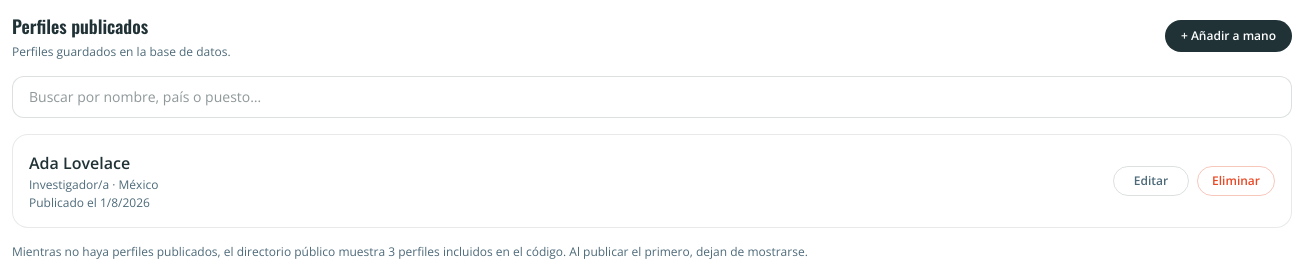
MembersEditor › says so when a search matches nothing
The image size is (1304, 276).
Type "zzzz" into the search field named "Buscar perfiles". click: (652,97)
box: [12,76,1292,118]
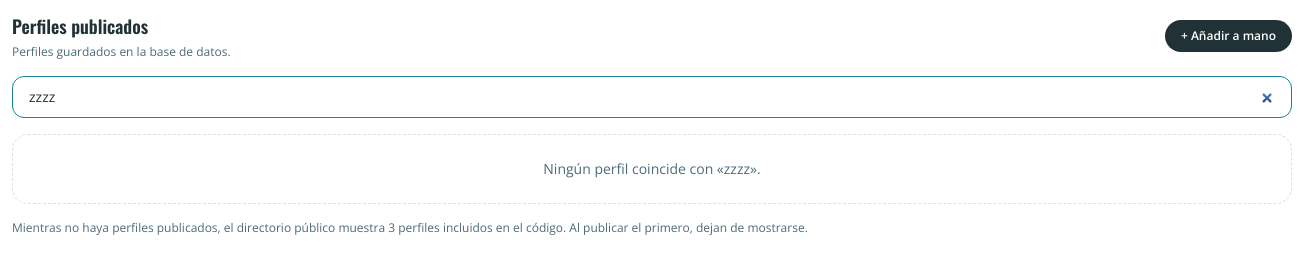
Check: the text "Ningún perfil coincide con «zzzz»." is shown, box [12,134,1292,204]
